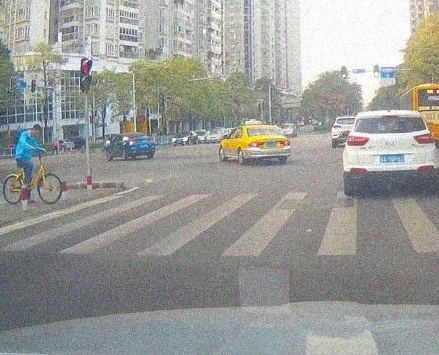L_light: (346, 136, 369, 146), (248, 141, 264, 147), (129, 141, 134, 146)
R_light: (414, 133, 435, 144), (277, 140, 290, 146), (149, 138, 154, 142)
T_light: (384, 116, 398, 118), (260, 128, 269, 129), (135, 134, 139, 135)
day-left: (245, 125, 291, 165), (125, 133, 155, 160)
day-no: (342, 112, 436, 196)
